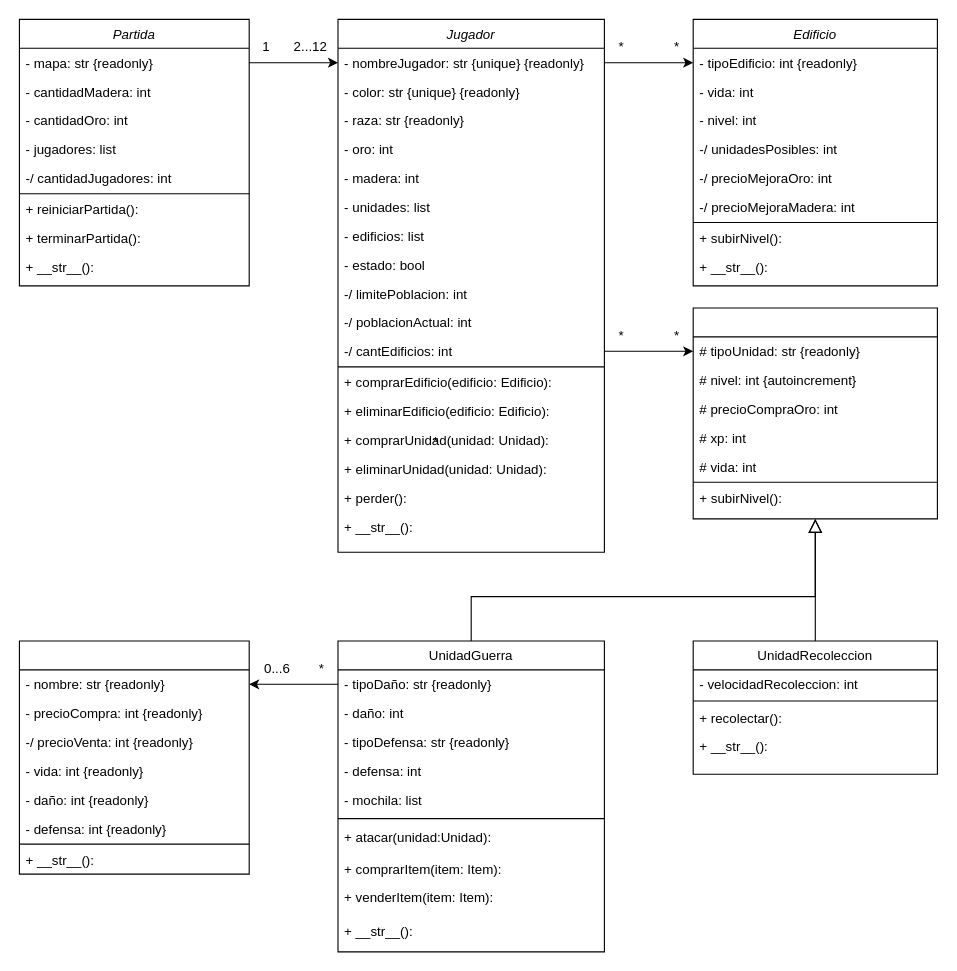
Some shapes in this 957 by 971 pixel diagram are drawn without their labels. The shapes that lost their labels are listed below. From the top down, each one's box as (x1, y1, x2, y2) in pixels, then its label:
(692, 307, 937, 519): Unidad {abstract}
(18, 640, 249, 874): item
